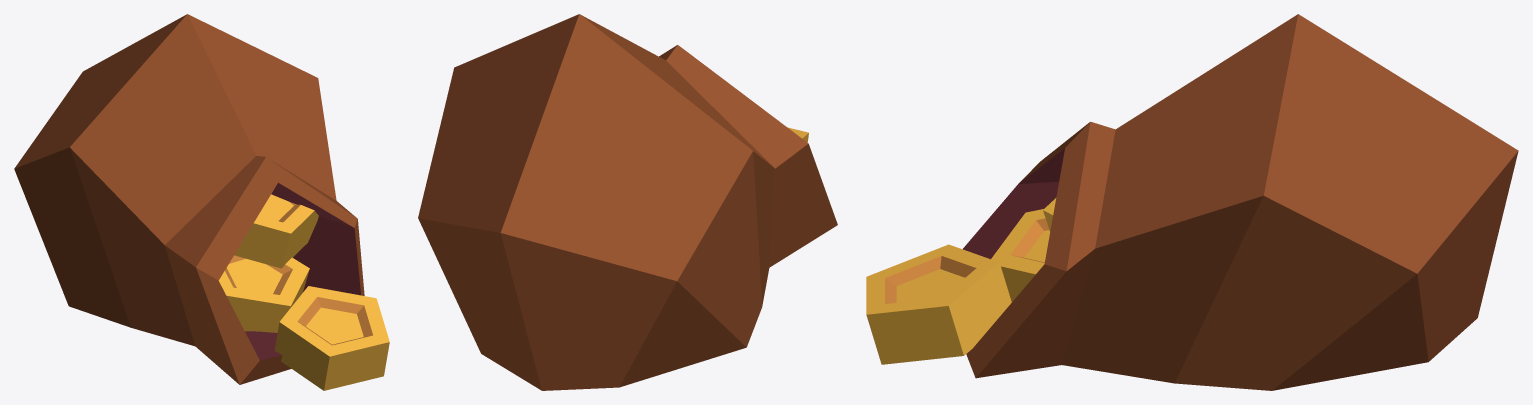
Rendered from Mesh_GoldBag.fbx.
3 renders of one model, left to right at view 1: azimuth 30°, elevation 25°; view 2: azimuth 150°, elevation 25°; view 3: azimuth 270°, elevation 25°, orthographic. The views are drawn at different scales.
Visible parts, largest first — view 1: SM_GoldBag; view 2: SM_GoldBag; view 3: SM_GoldBag.
Boxes of the visible parts, left/top/right/bottom form: SM_GoldBag: left=14, top=14, right=389, bottom=390; SM_GoldBag: left=418, top=14, right=837, bottom=390; SM_GoldBag: left=866, top=14, right=1518, bottom=390.
Bounding box in the file's own units: 0.4865 × 0.474 × 0.8534.
